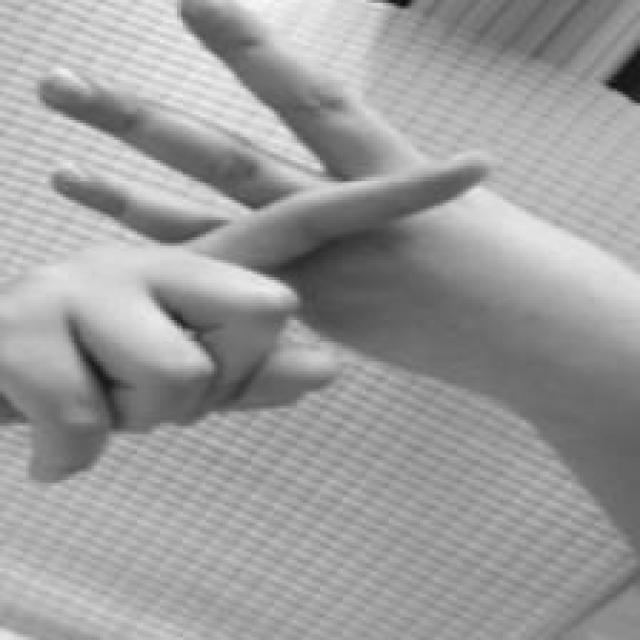E: (1, 4, 565, 494)
